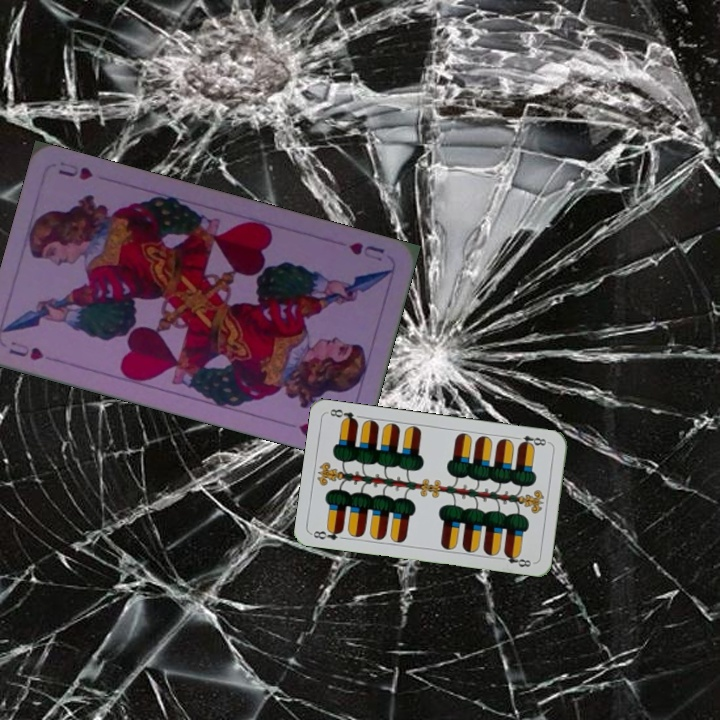E8: (511, 431, 552, 450), (308, 524, 346, 542)
HU: (4, 337, 46, 364), (344, 238, 387, 264)
